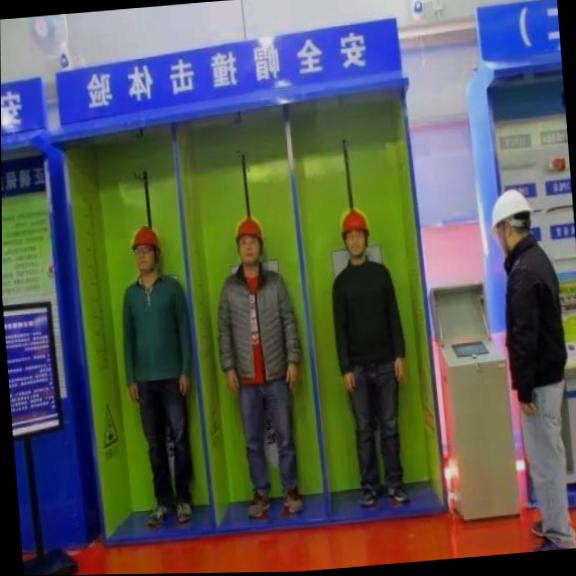no_safety_vest: (495, 230, 572, 391), (209, 262, 305, 379), (325, 259, 407, 373), (114, 273, 198, 383)
